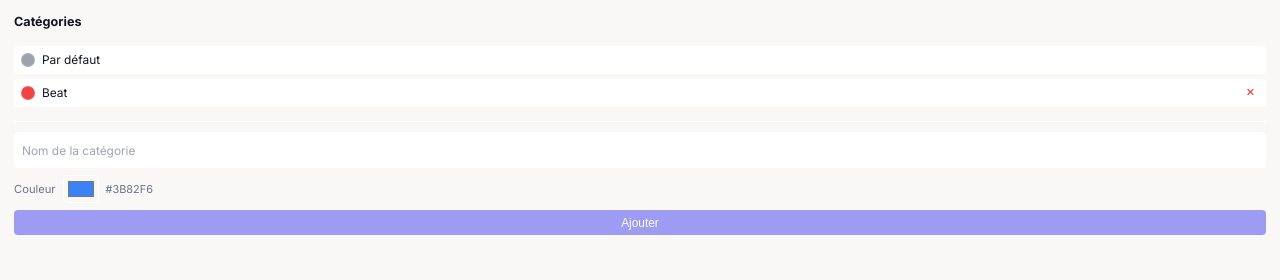
Test: CategoryManager › affiche erreur si le nom existe déjà
The image size is (1280, 280).
Type "Beat" into the field with placeholder "Nom de la catégorie". click: [640, 150]
box: [14, 132, 1266, 168]
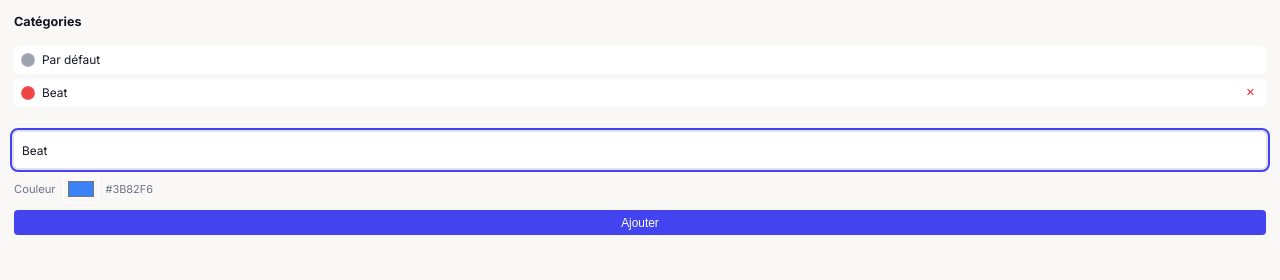
Click the button "Ajouter". click: [640, 223]
box: [14, 210, 1266, 236]
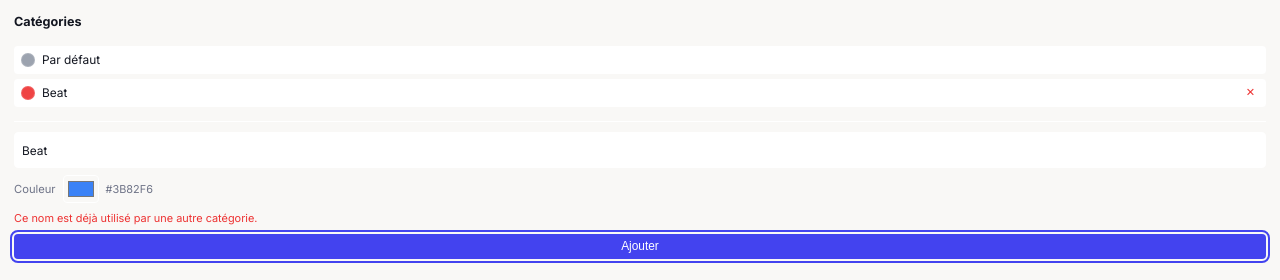
Expected: the text "Ce nom est déjà utilisé par une autre catégorie." is shown, [14, 211, 258, 225]
